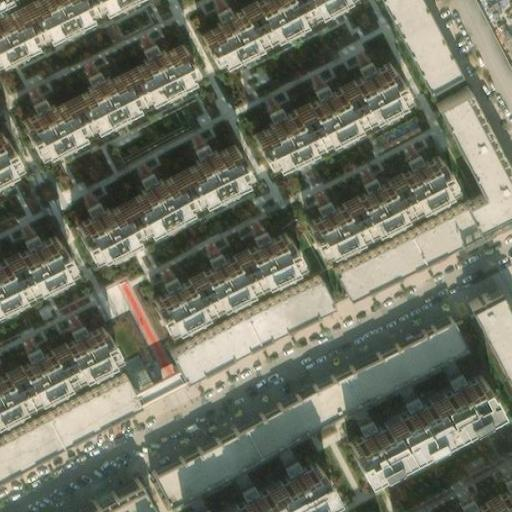building: (148, 319, 461, 503), (14, 35, 185, 147), (64, 136, 238, 245), (400, 89, 512, 258), (163, 268, 329, 382), (302, 142, 462, 248), (146, 219, 304, 325), (338, 371, 491, 475), (244, 58, 393, 154), (0, 368, 133, 470), (208, 454, 324, 512), (328, 227, 416, 295), (468, 298, 512, 397), (0, 226, 58, 287), (448, 479, 512, 512)
